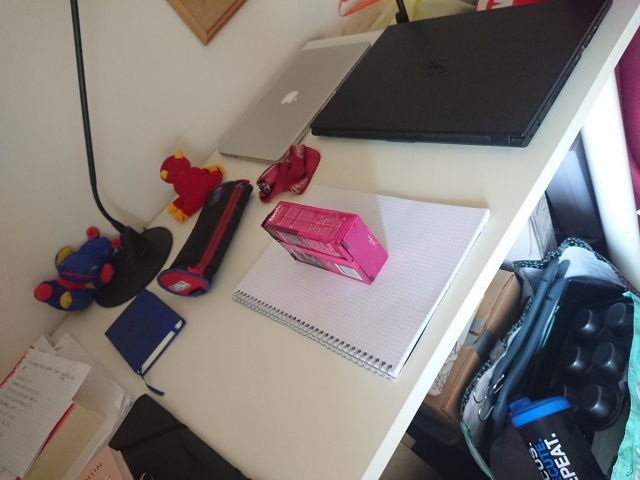Barcaffe Classic Original 225g: (259, 199, 390, 287)
